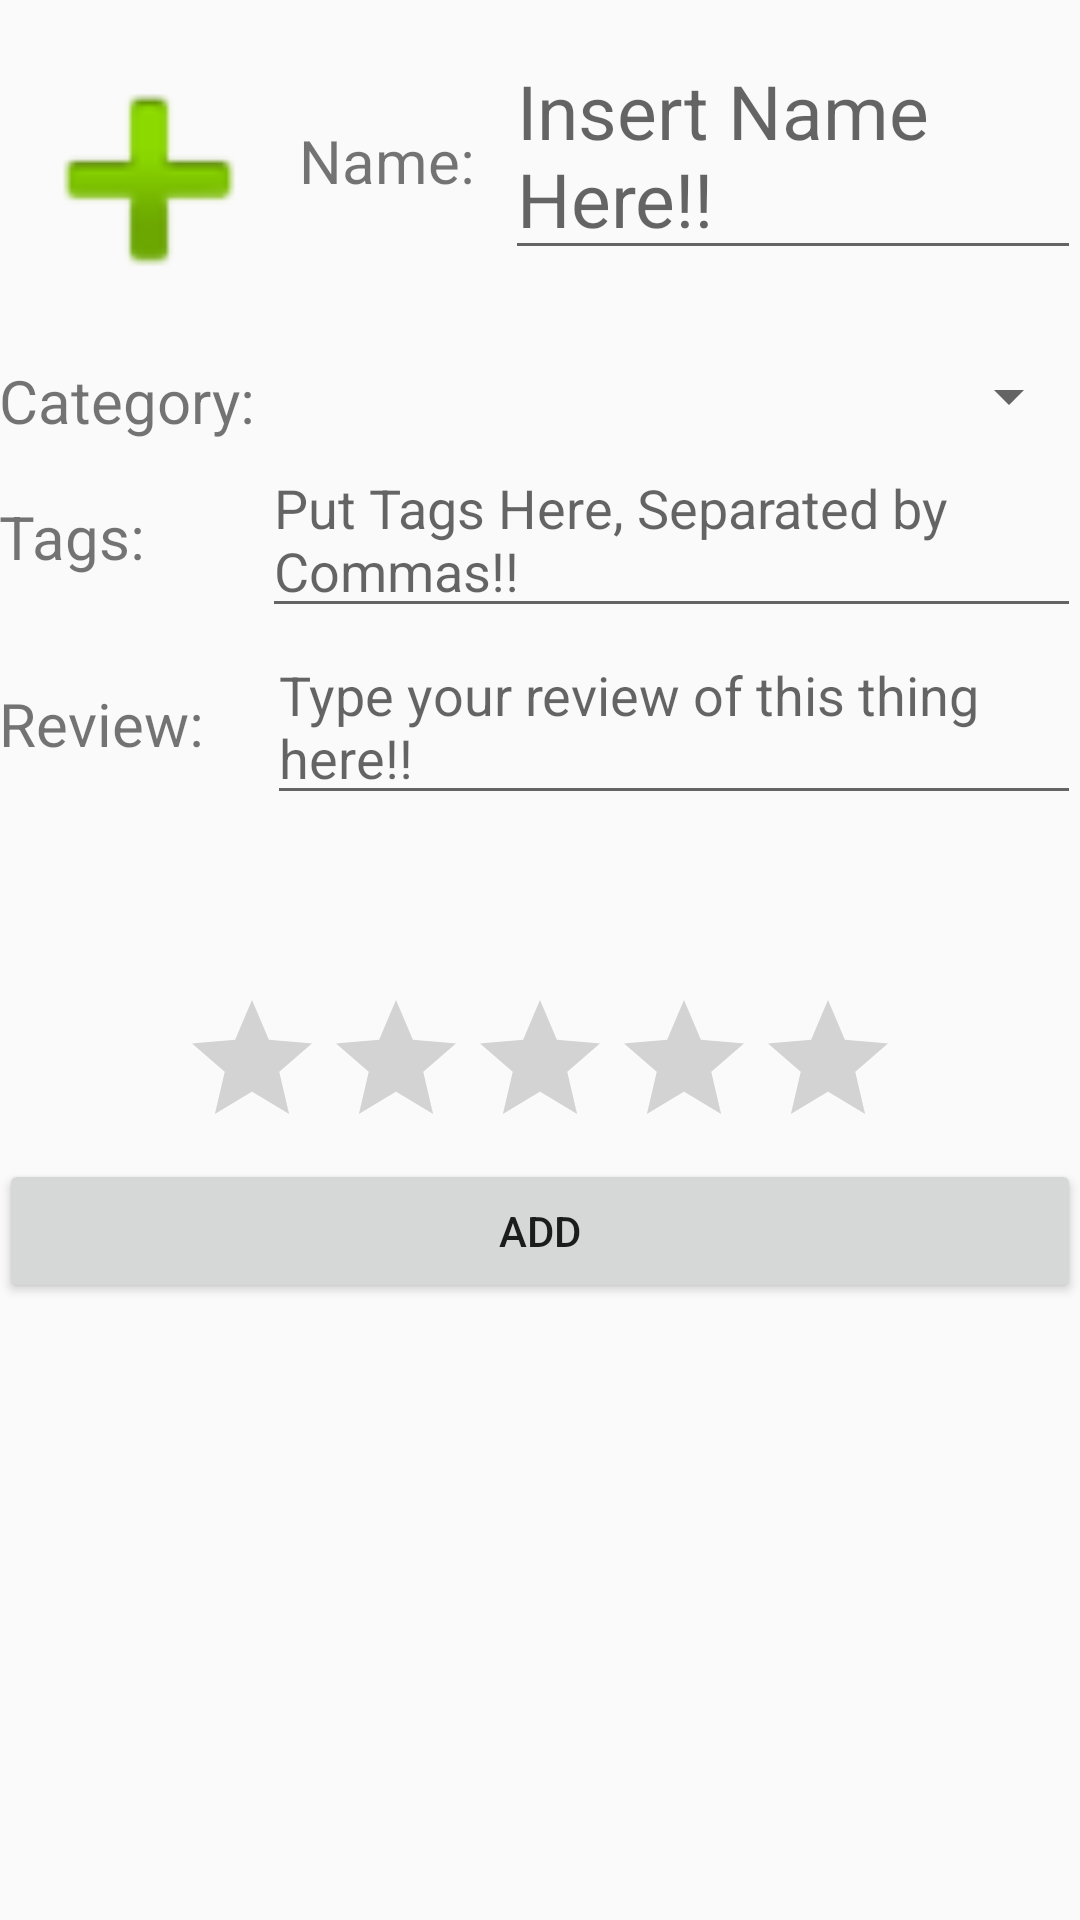

Screen size 1080x1920. Icon name, then its center in pixels as [x,y]:
Press to insert image!: [149,180]
